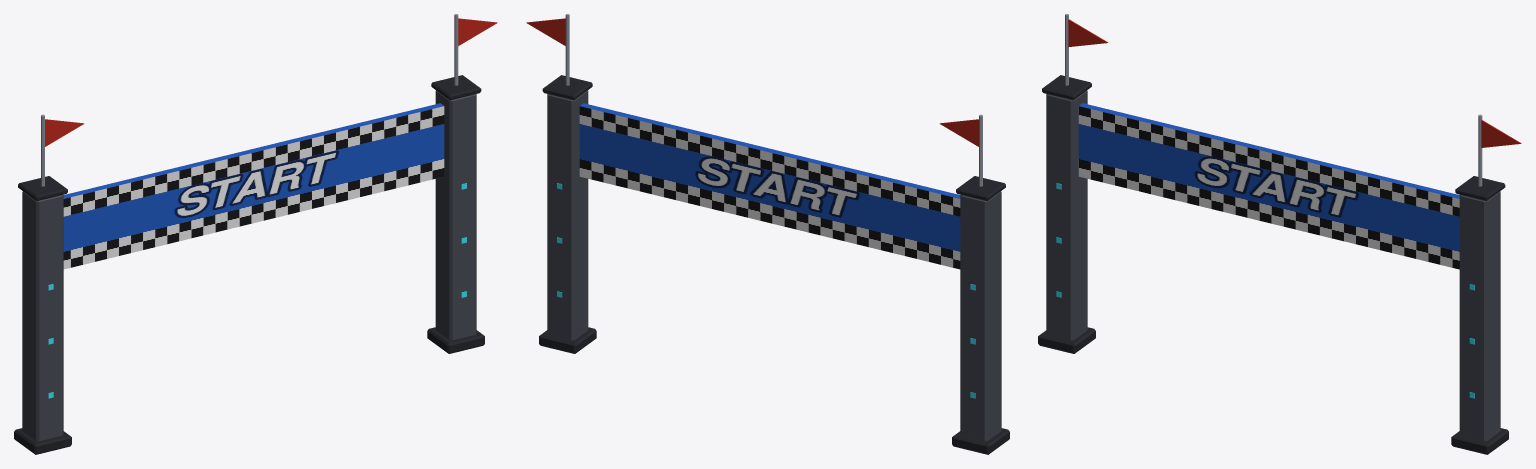
File: gate_start.glb
The picture shows the model from 3 angles, left to right: view 1: azimuth 30°, elevation 25°; view 2: azimuth 150°, elevation 25°; view 3: azimuth 330°, elevation 25°; orthographic projection.
Parts seen in each view (by area): view 1: gate_start_gate_start_banner, gate_start_Main; view 2: gate_start_gate_start_banner, gate_start_Main; view 3: gate_start_gate_start_banner, gate_start_Main.
Boxes of the visible parts, bbox=[...] form: gate_start_gate_start_banner: bbox=[63, 103, 444, 269]; gate_start_Main: bbox=[14, 14, 497, 454]; gate_start_gate_start_banner: bbox=[579, 103, 960, 269]; gate_start_Main: bbox=[526, 14, 1009, 454]; gate_start_gate_start_banner: bbox=[1078, 103, 1459, 269]; gate_start_Main: bbox=[1038, 14, 1521, 454].
Size of the model in its own units: 27.5 by 18.2 by 2.2.
2 materials, 2 textured.
